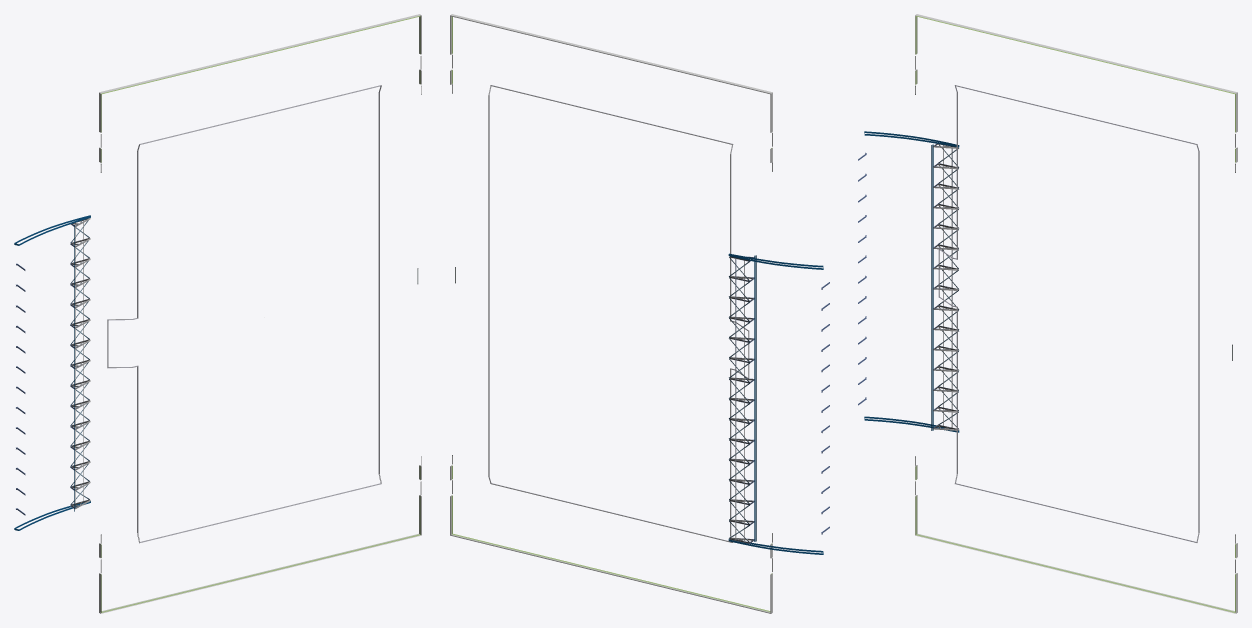
Rendered from SM_000216_merge_wall02.fbx.
3 renders of one model, left to right at view 1: azimuth 30°, elevation 25°; view 2: azimuth 150°, elevation 25°; view 3: azimuth 330°, elevation 25°, orthographic.
Parts seen in each view (by area): view 1: SM_000216.001; view 2: SM_000216.001; view 3: SM_000216.001.
Boxes of the visible parts, x1,y1,x2,y2 form: SM_000216.001: (14, 14, 421, 613); SM_000216.001: (450, 14, 829, 613); SM_000216.001: (858, 14, 1237, 613).
Bounding box in the file's own units: 63.07 × 80.5 × 8.82.
